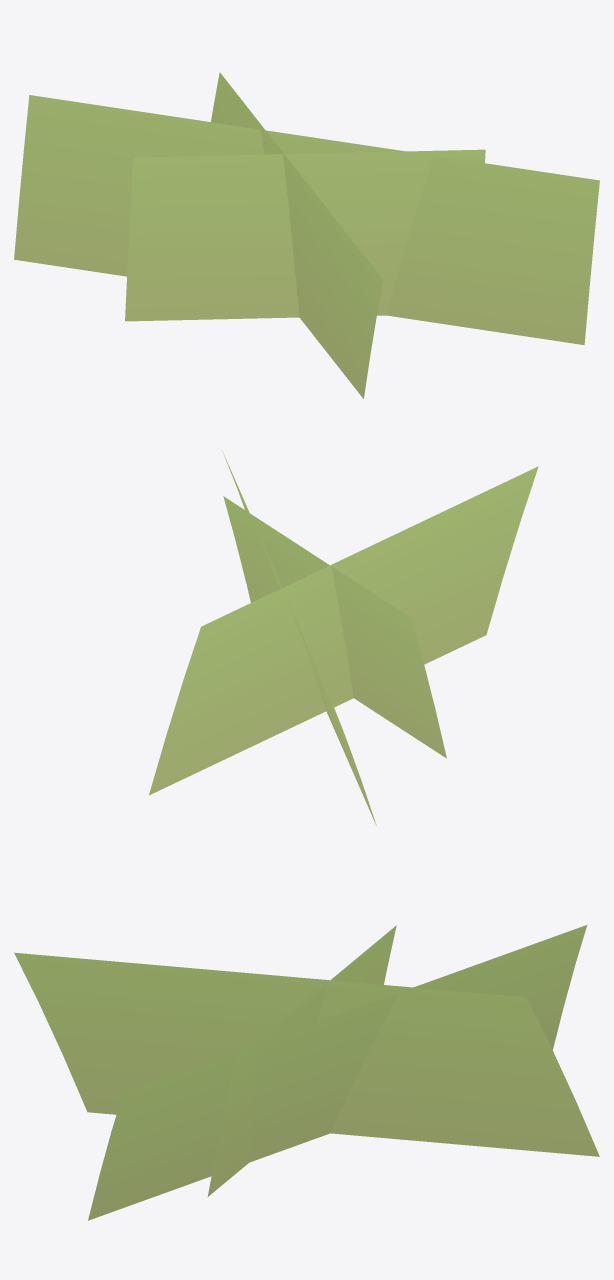
File: grass_d.glb
3 renders of one model, top to bottom at view 1: azimuth 30°, elevation 25°; view 2: azimuth 150°, elevation 25°; view 3: azimuth 270°, elevation 25°, orthographic. The views are drawn at different scales.
Parts seen in each view (by area): view 1: LOD0; view 2: LOD0; view 3: LOD0.
Part boxes in pixels (x1,y1,x2,y2): LOD0: (14, 72, 599, 398); LOD0: (149, 450, 538, 825); LOD0: (14, 925, 599, 1220).
Size of the model in its own units: 1.92 by 0.6747 by 1.91.
